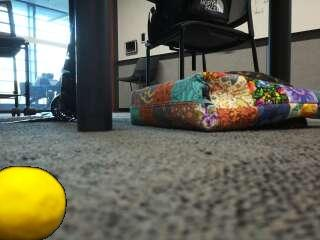lemon: (0, 168, 64, 240)
